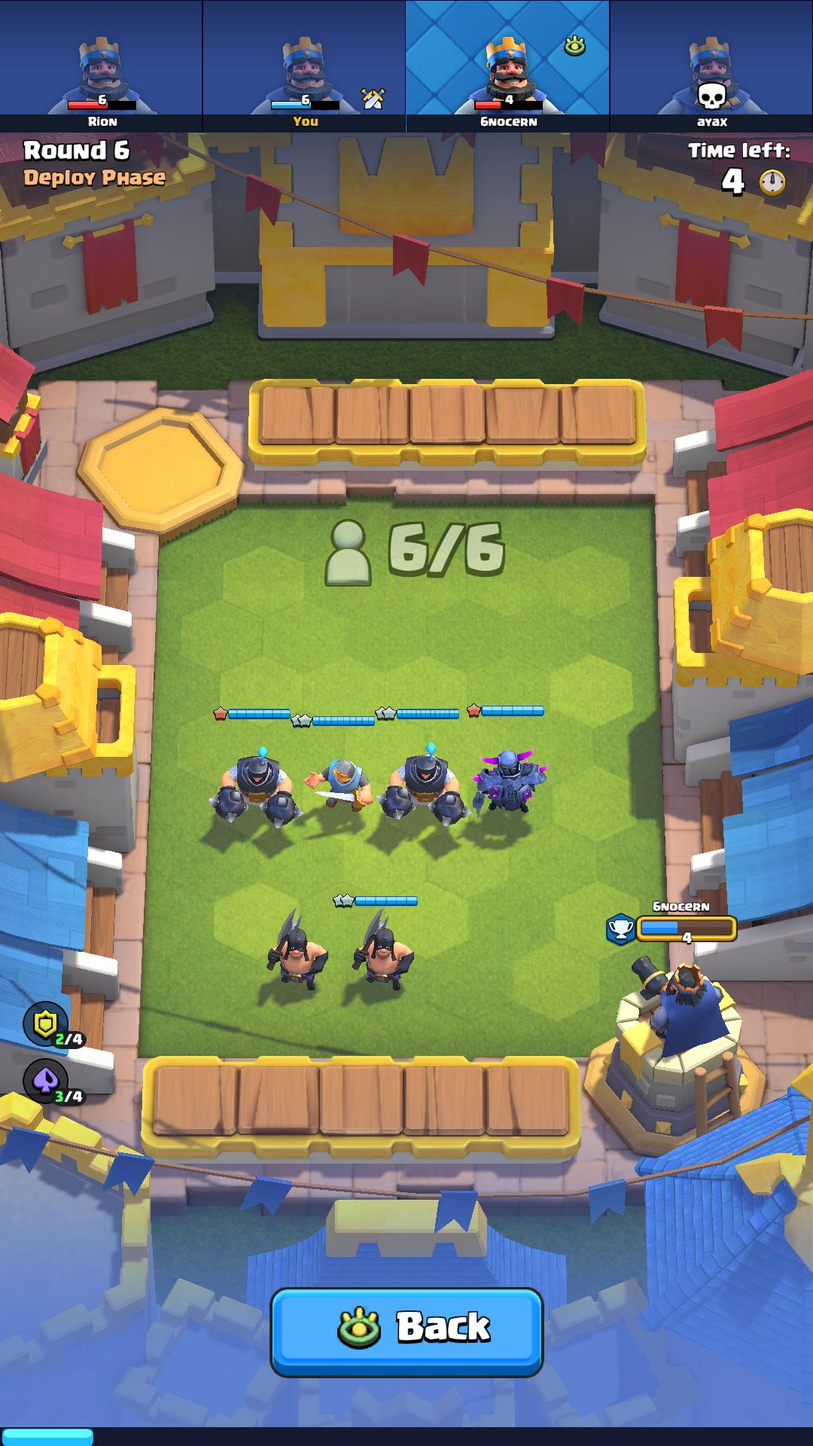executioner: (259, 904, 332, 995), (350, 907, 419, 994)
knight: (300, 753, 376, 814)
mega: (209, 740, 305, 828), (377, 739, 474, 822)
pekka: (469, 739, 549, 817)
